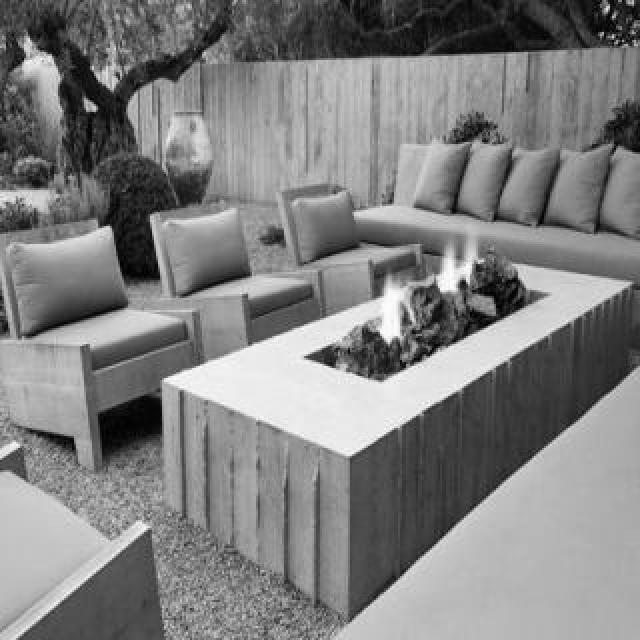Fire: (368, 222, 498, 352)
